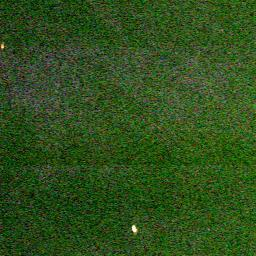Ship: (128, 221, 139, 238), (0, 38, 9, 53)
